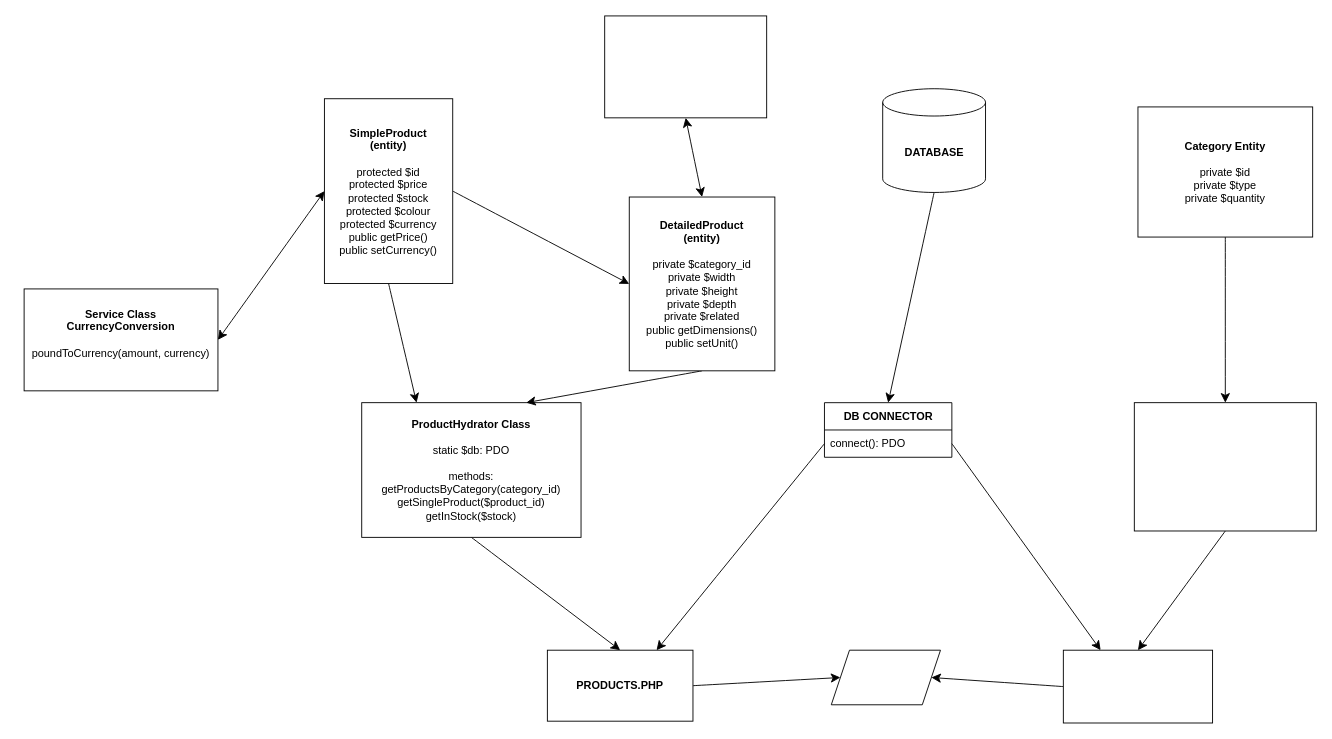
This 1332x739 diagram has some shape labels left out. Each missing label, with the centre of its shape:
"CATEGORY.PHP" belongs at pixel 1137 686.
"CategoryHydrator static $db: PDO methods getCategory(category_id)" belongs at pixel 1224 466.
"JSON Outputs" belongs at pixel 885 677.
"Service Class UnitConversion mmToUnit(width,depth,height)" belongs at pixel 685 66.
